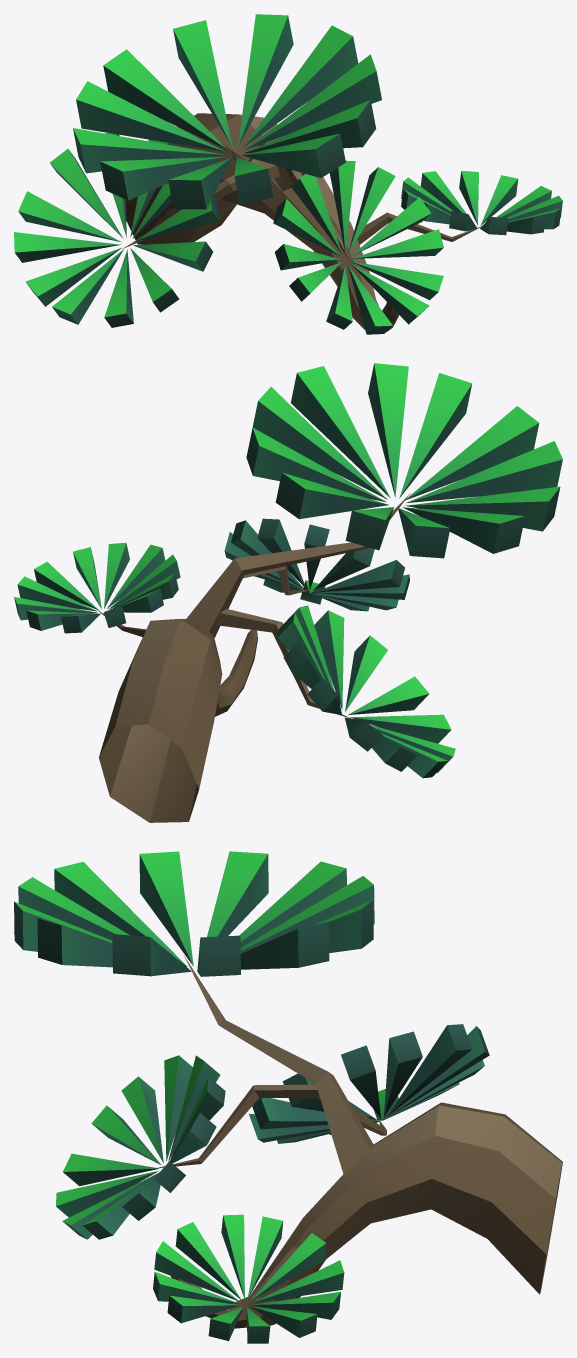
The model's file is branch_1.glb.
3 views of the same model, one above another, from view 1: azimuth 30°, elevation 25°; view 2: azimuth 150°, elevation 25°; view 3: azimuth 270°, elevation 25° (orthographic). The views are drawn at different scales.
Parts seen in each view (by area): view 1: branch_1; view 2: branch_1; view 3: branch_1.
Boxes of the visible parts, x1,y1,x2,y2 form: branch_1: [14, 14, 562, 334]; branch_1: [14, 363, 562, 822]; branch_1: [14, 851, 562, 1343].
Bounding box in the file's own units: 2.36 × 1.47 × 1.98.
1 material, 1 textured.
